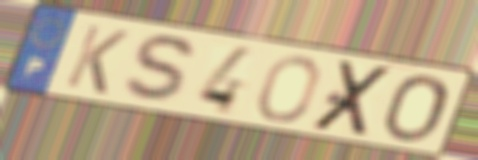4: (191, 43, 256, 118)
K: (61, 22, 133, 98)
O: (380, 73, 452, 144), (254, 54, 323, 124)
S: (119, 32, 201, 106)
X: (306, 58, 399, 139)
